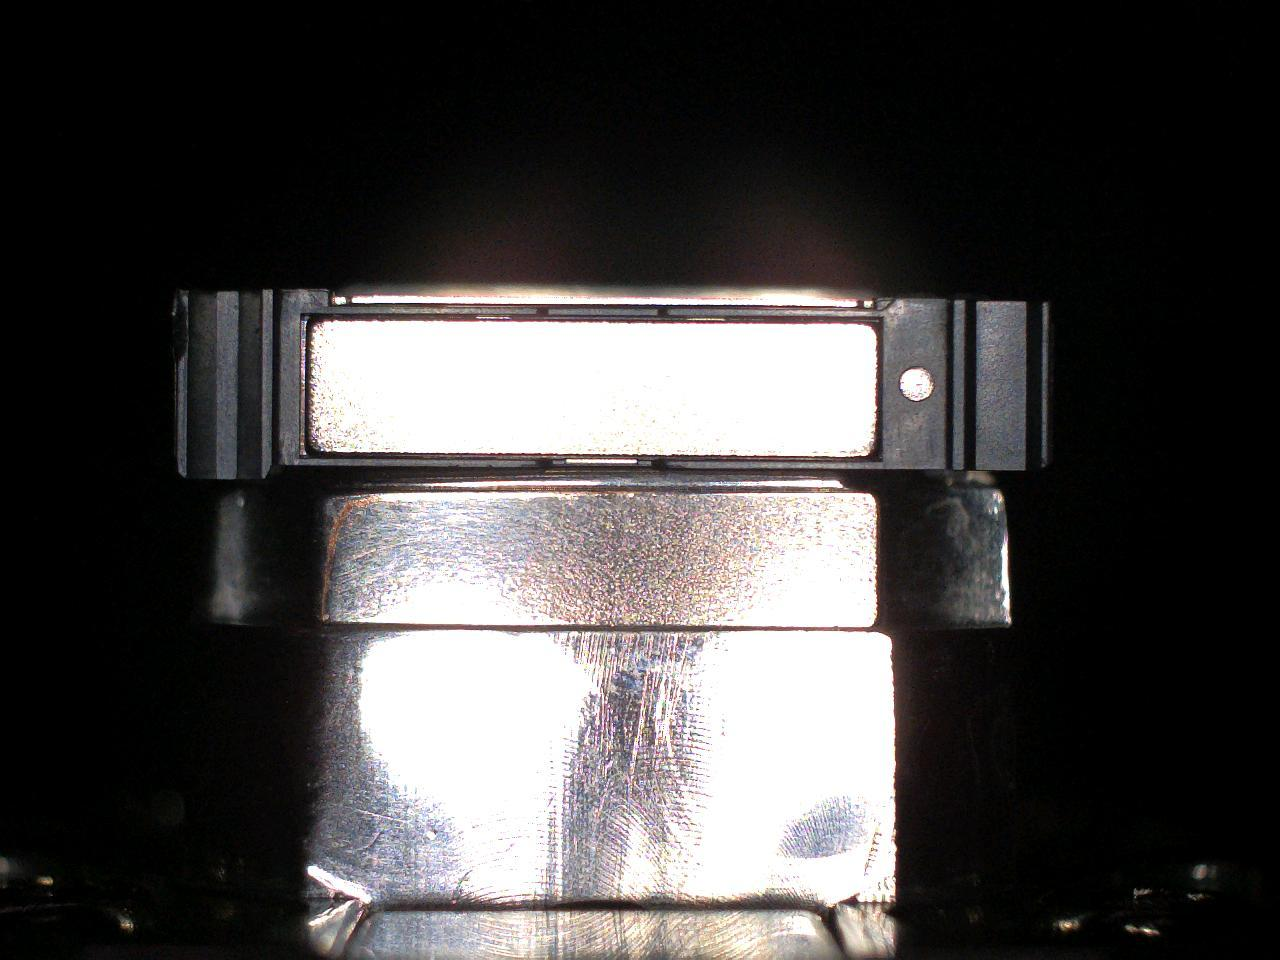frame: (176, 289, 1049, 480)
gap: (310, 452, 537, 460), (668, 316, 877, 324), (667, 455, 874, 462), (311, 315, 536, 321), (548, 316, 658, 323), (553, 454, 653, 461)
magnetic: (310, 322, 877, 456)
